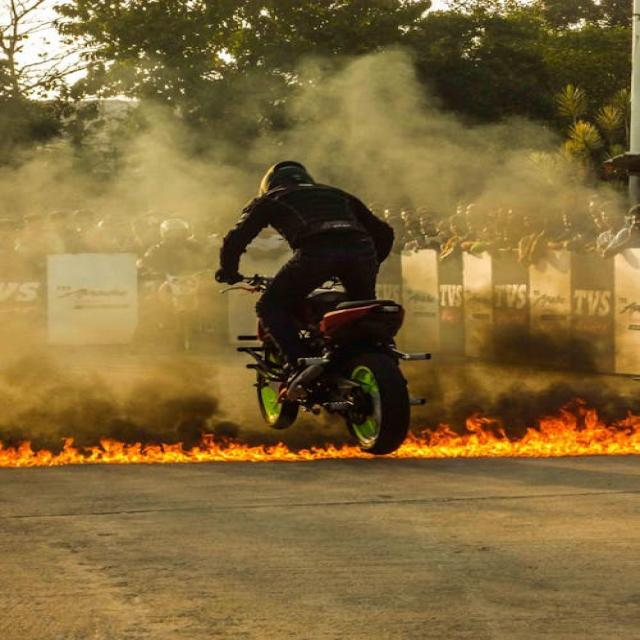fire: (0, 396, 640, 468)
